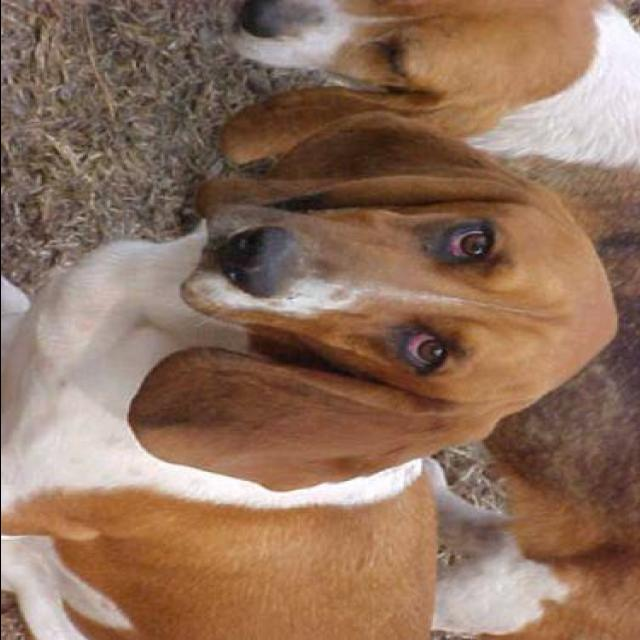dog: (0, 86, 627, 640)
